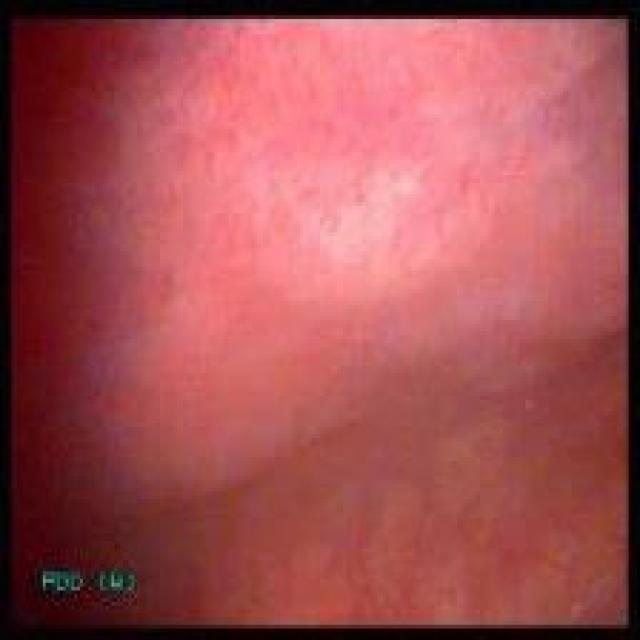blur: (10, 16, 627, 624)
color misalignment: (38, 567, 82, 596), (93, 569, 140, 593)
contrast: (10, 16, 170, 622)
saturation: (210, 40, 530, 316)
